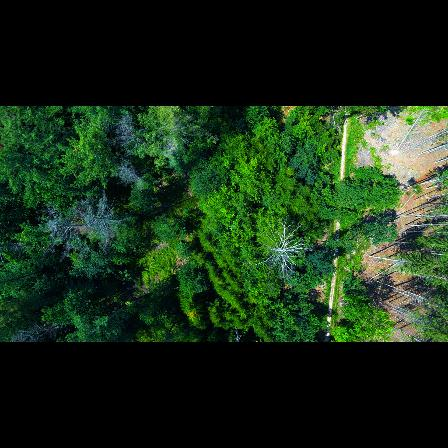Dead: (251, 220, 312, 285), (42, 206, 88, 250), (112, 155, 158, 191), (108, 111, 149, 151), (91, 200, 125, 242)
